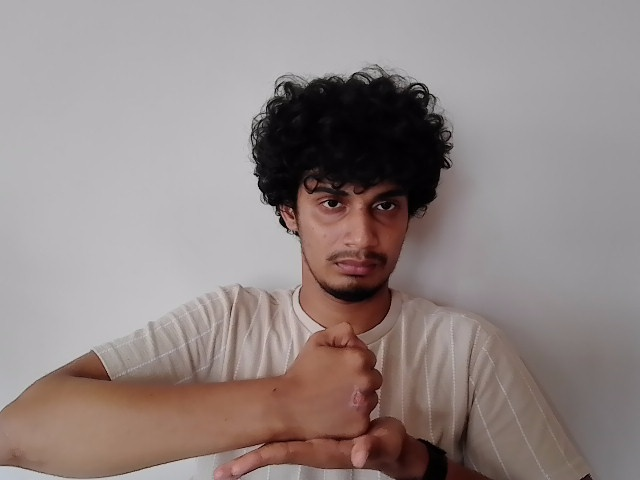help: (210, 322, 405, 479)
